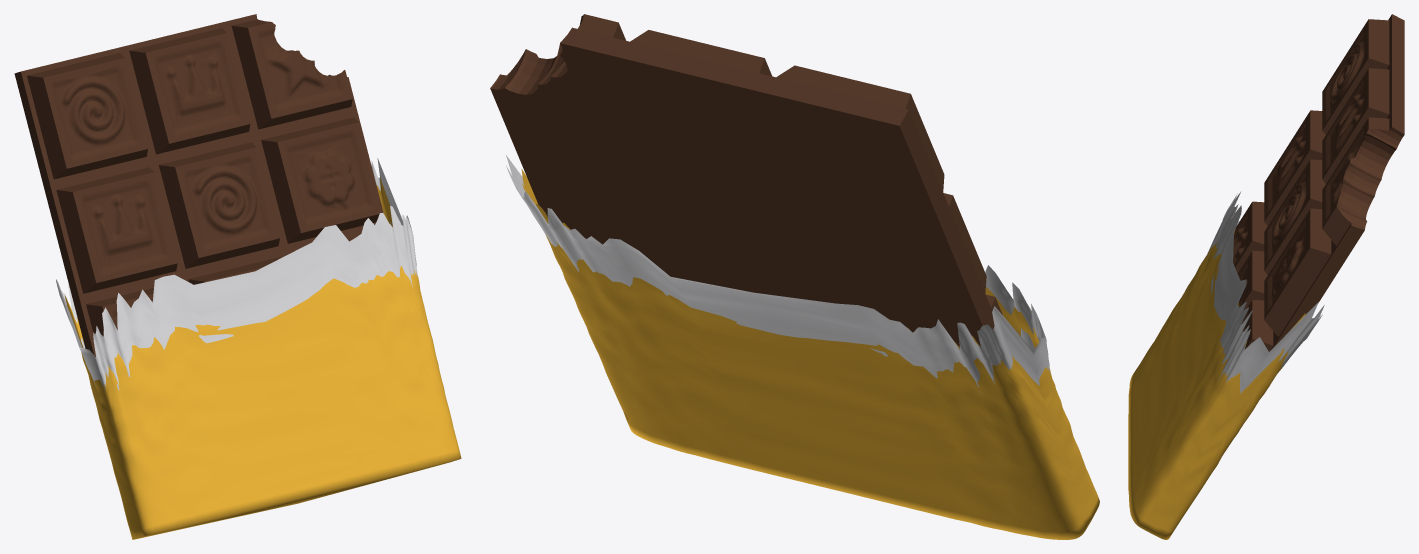
Rendered from choco.glb.
3 renders of one model, left to right at view 1: azimuth 30°, elevation 25°; view 2: azimuth 150°, elevation 25°; view 3: azimuth 270°, elevation 25°, orthographic. The views are drawn at different scales.
Parts seen in each view (by area): view 1: CH_Bar, CH_Foil, CH_Paper; view 2: CH_Bar, CH_Foil, CH_Paper; view 3: CH_Bar, CH_Foil, CH_Paper.
Part boxes in pixels (x1,y1,x2,y2): CH_Bar: (14, 14, 383, 356); CH_Foil: (65, 178, 461, 539); CH_Paper: (56, 158, 417, 391); CH_Bar: (490, 14, 1068, 531); CH_Foil: (521, 169, 1099, 539); CH_Paper: (506, 155, 1050, 393); CH_Bar: (1233, 14, 1404, 351); CH_Foil: (1128, 212, 1305, 539); CH_Paper: (1206, 192, 1324, 393).
Size of the model in its own units: 0.2628 by 0.2895 by 0.1903.
